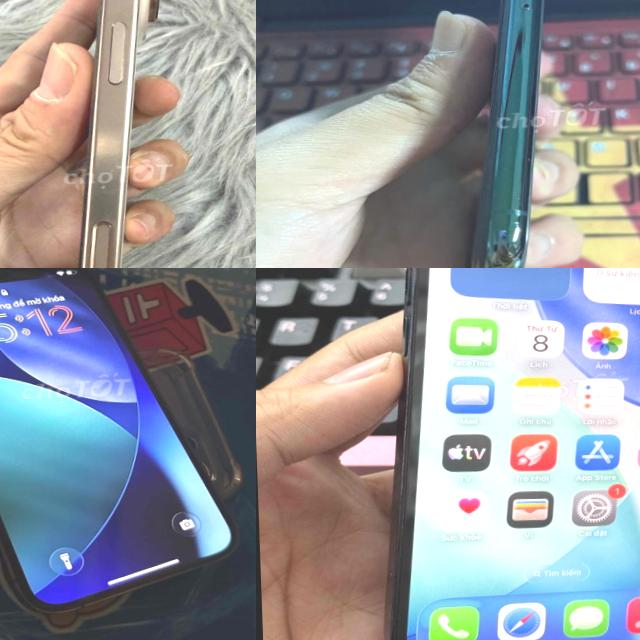scratch: (492, 112, 549, 220)
